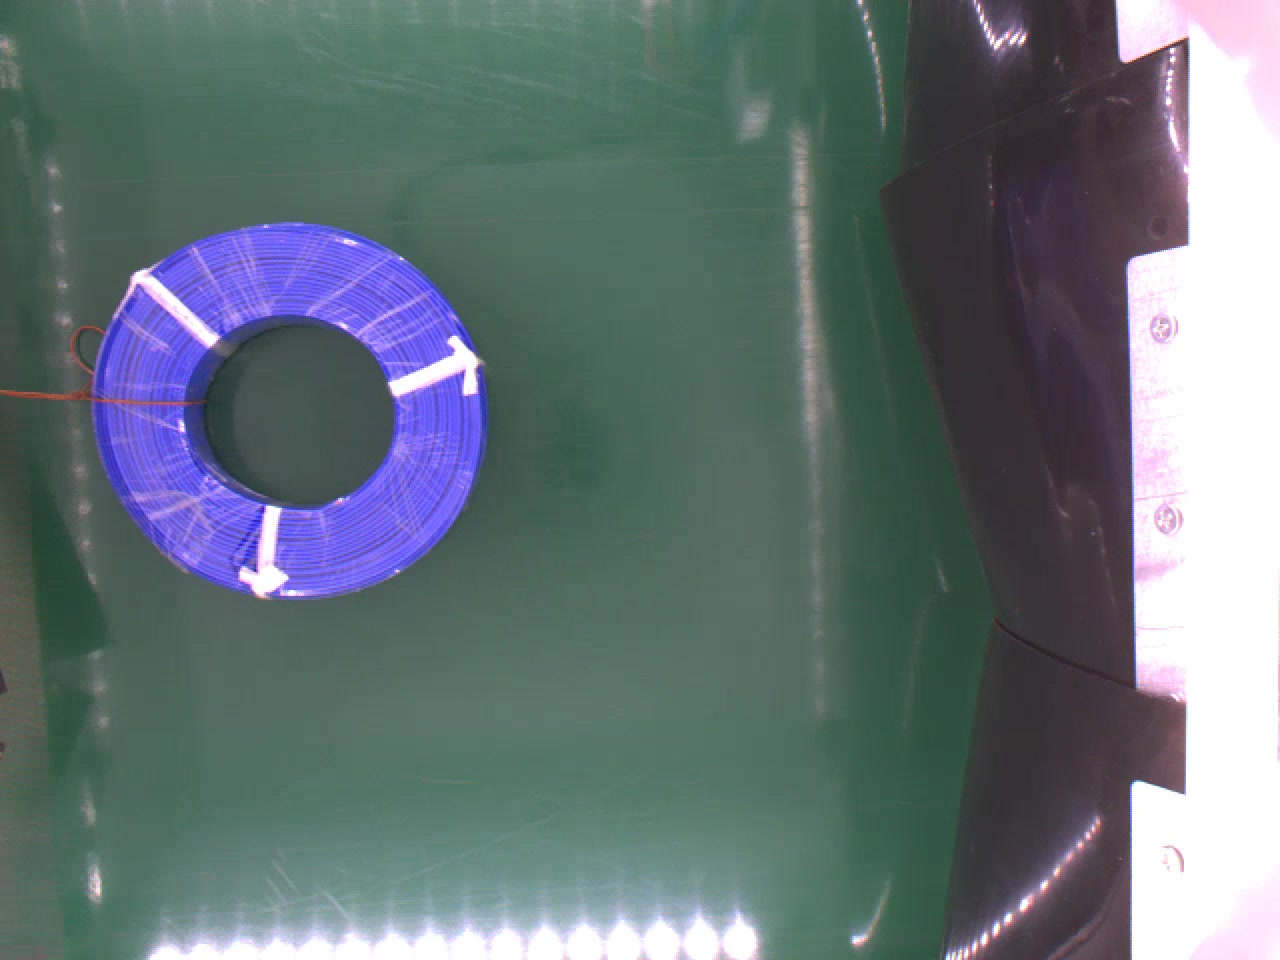blue: (92, 217, 485, 593)
